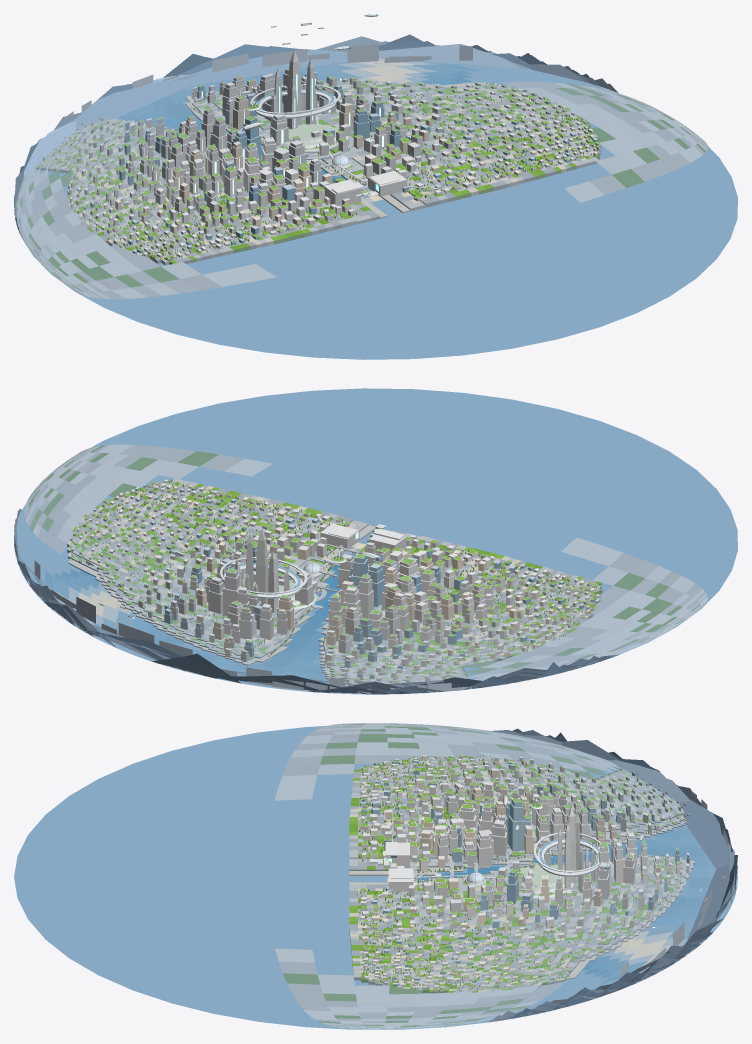
The model's file is future-city.glb.
The picture shows the model from 3 angles, top to bottom: view 1: azimuth 30°, elevation 25°; view 2: azimuth 150°, elevation 25°; view 3: azimuth 270°, elevation 25°; orthographic projection.
Visible parts, largest first — view 1: Water, Land, CityBlocks, Backdrop, CityGreen, Downtown, Foreground; view 2: Water, Land, CityBlocks, Backdrop, CityGreen, Downtown, Foreground, Infra; view 3: Water, Land, CityBlocks, Backdrop, CityGreen, Downtown, Foreground, Infra.
Boxes of the visible parts, bbox=[...] form: Water: bbox=[20, 58, 737, 359]; Land: bbox=[14, 80, 707, 299]; CityBlocks: bbox=[41, 69, 600, 260]; Backdrop: bbox=[14, 34, 617, 234]; CityGreen: bbox=[42, 68, 600, 260]; Downtown: bbox=[250, 47, 353, 168]; Foreground: bbox=[323, 170, 407, 206]; Water: bbox=[14, 388, 737, 694]; Land: bbox=[24, 444, 707, 686]; CityBlocks: bbox=[70, 479, 599, 684]; Backdrop: bbox=[14, 509, 619, 694]; CityGreen: bbox=[69, 480, 601, 682]; Downtown: bbox=[220, 526, 326, 612]; Foreground: bbox=[320, 523, 406, 553]; Infra: bbox=[274, 516, 359, 653]; Water: bbox=[14, 726, 737, 1029]; Land: bbox=[274, 723, 694, 1028]; CityBlocks: bbox=[360, 755, 689, 991]; Backdrop: bbox=[488, 728, 737, 1022]; CityGreen: bbox=[357, 755, 688, 991]; Downtown: bbox=[464, 801, 600, 898]; Foreground: bbox=[369, 842, 413, 891]; Infra: bbox=[366, 832, 652, 903].
Size of the model in its own units: 3798 by 485 by 3800.
